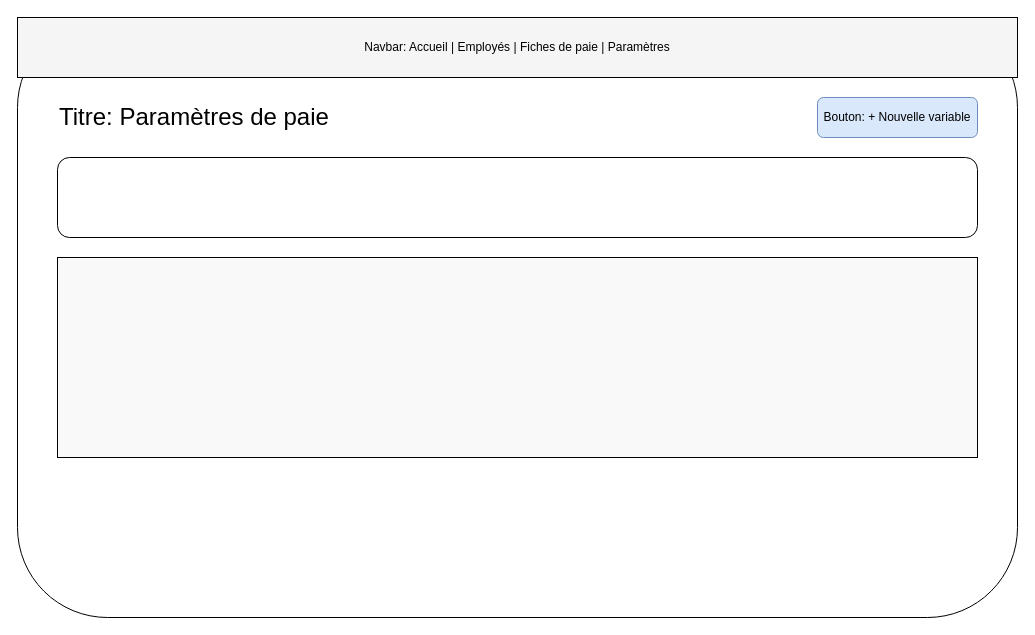
This 1035x635 diagram has some shape labels left out. Here are the shapes that lost their labels. From the top down, the centre of each, then its label:
At [517,197]: "Inputs: CODE | LIBELLÉ | TYPE (Dropdown)".
At [517,357]: "Tableau: CODE | LIBELLÉ | DESCRIPTION | TYPE | ACTIONS".
